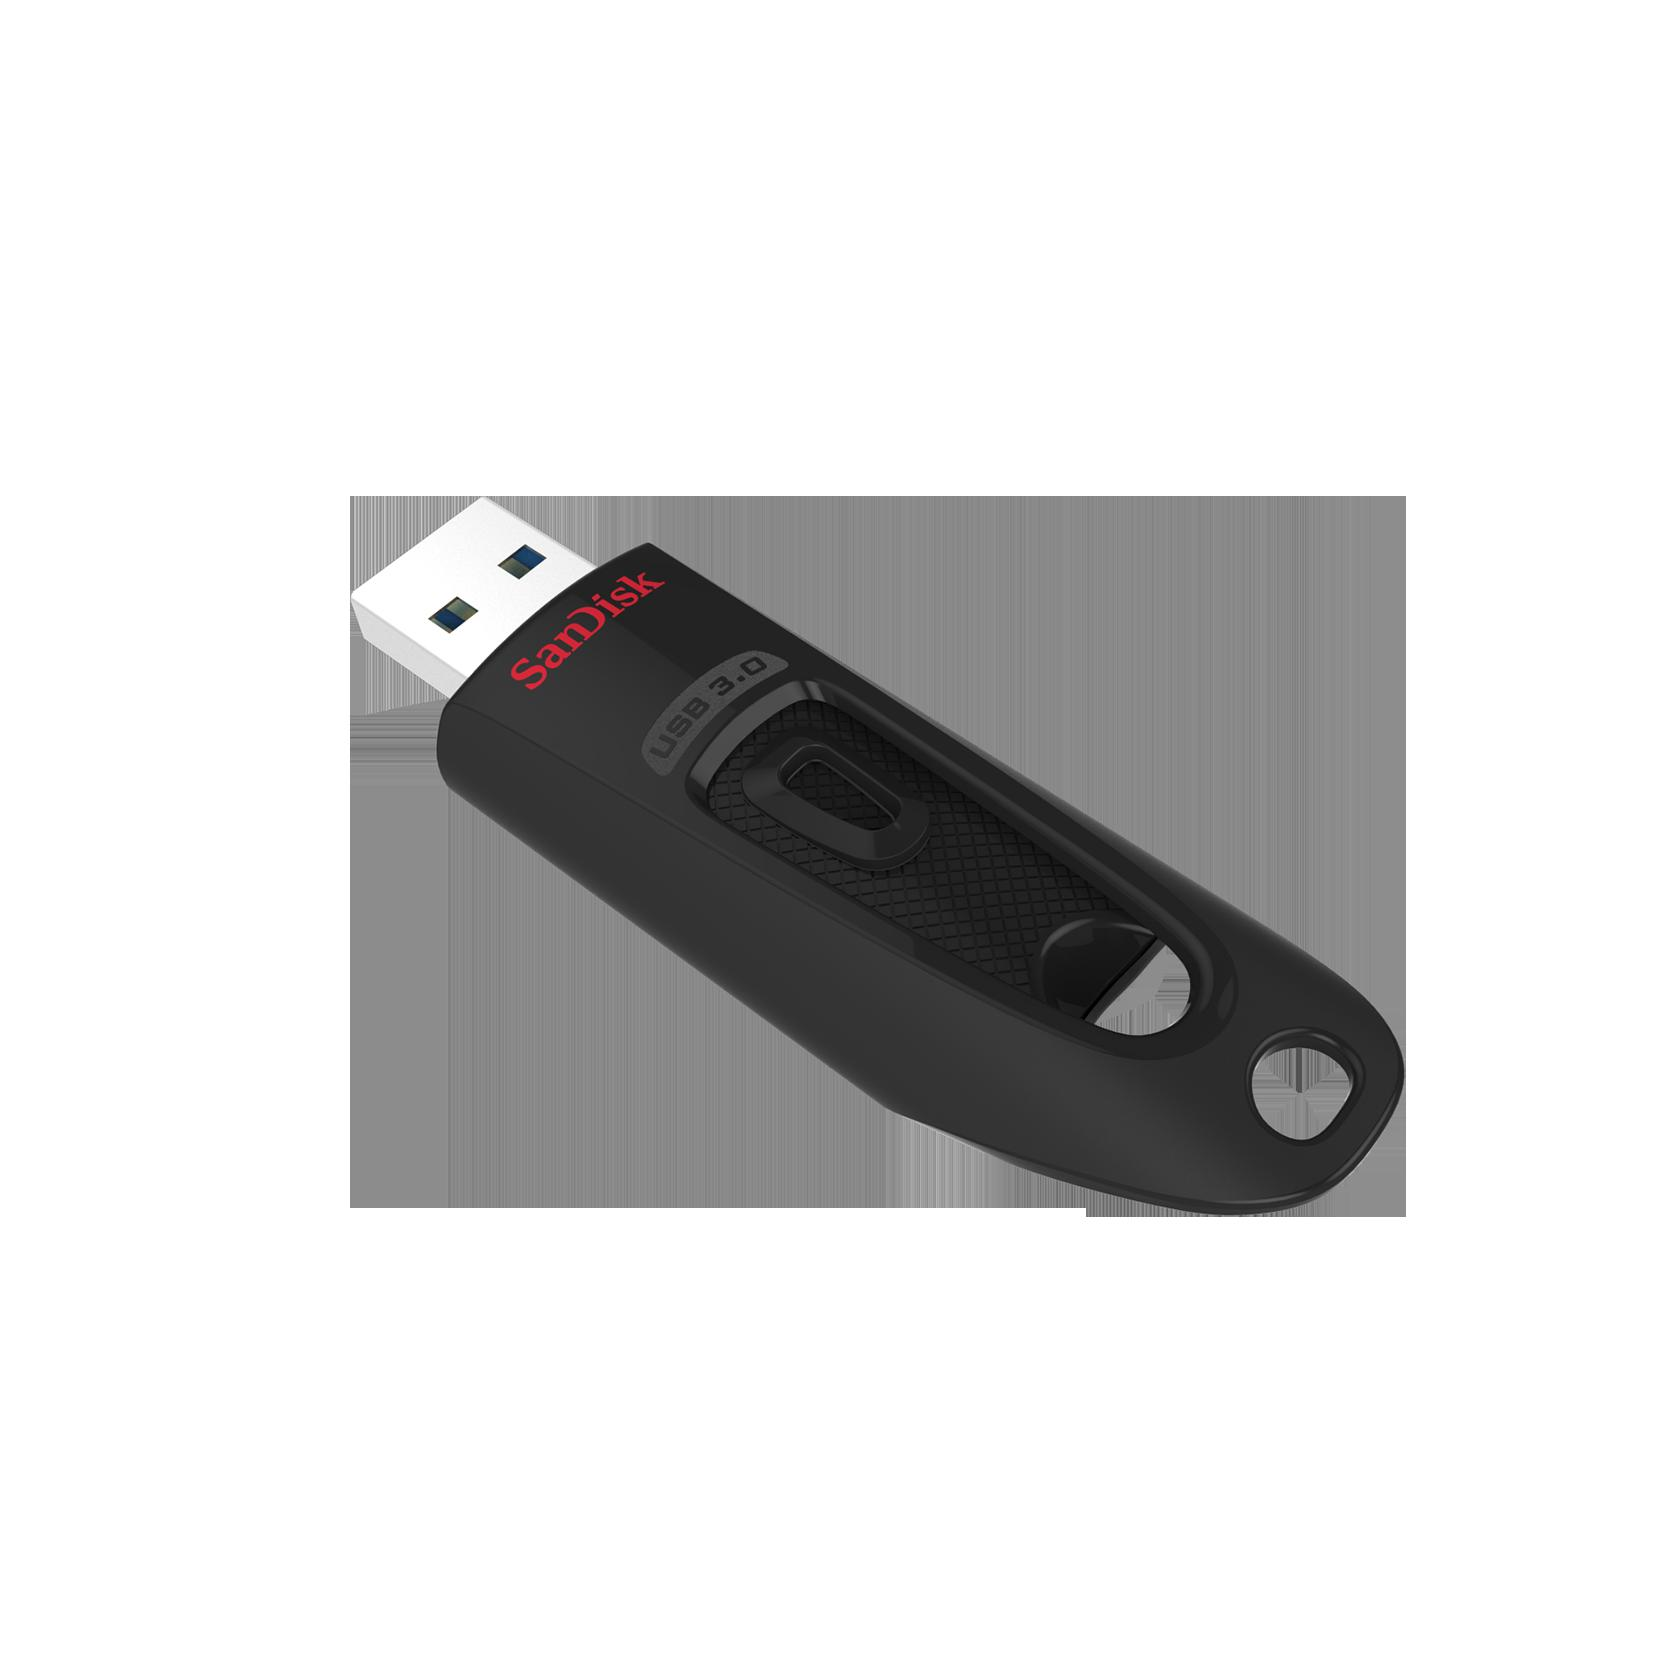USB Flash Drive: (349, 502, 1409, 1220)
